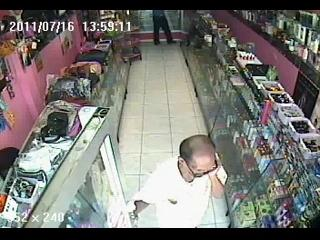Normal: (128, 134, 230, 228), (152, 10, 176, 46)
